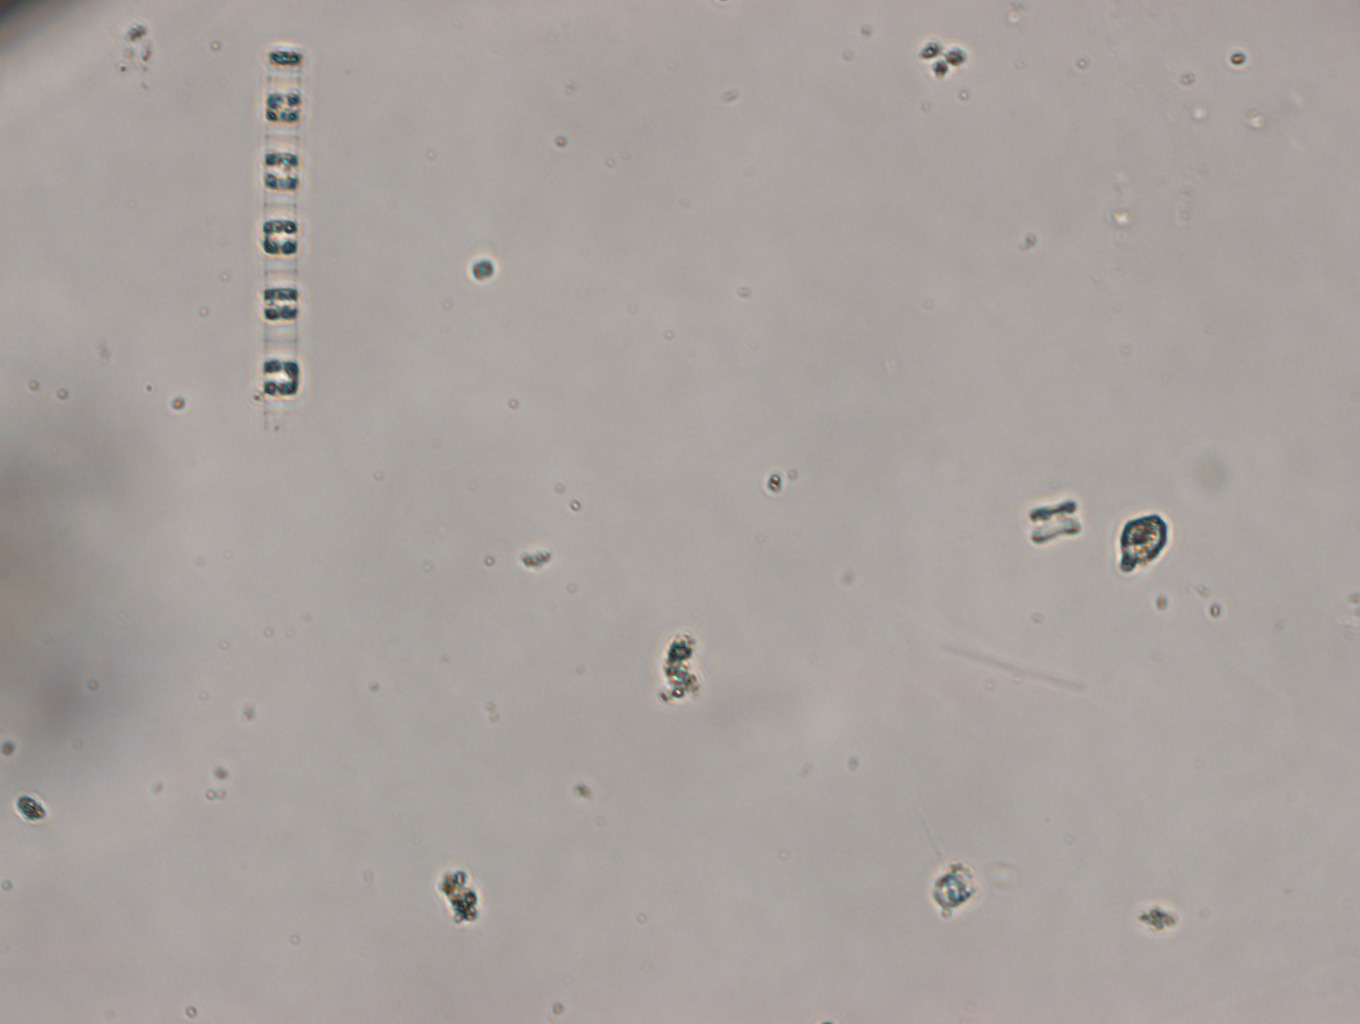skeletonema: (260, 45, 302, 406)
